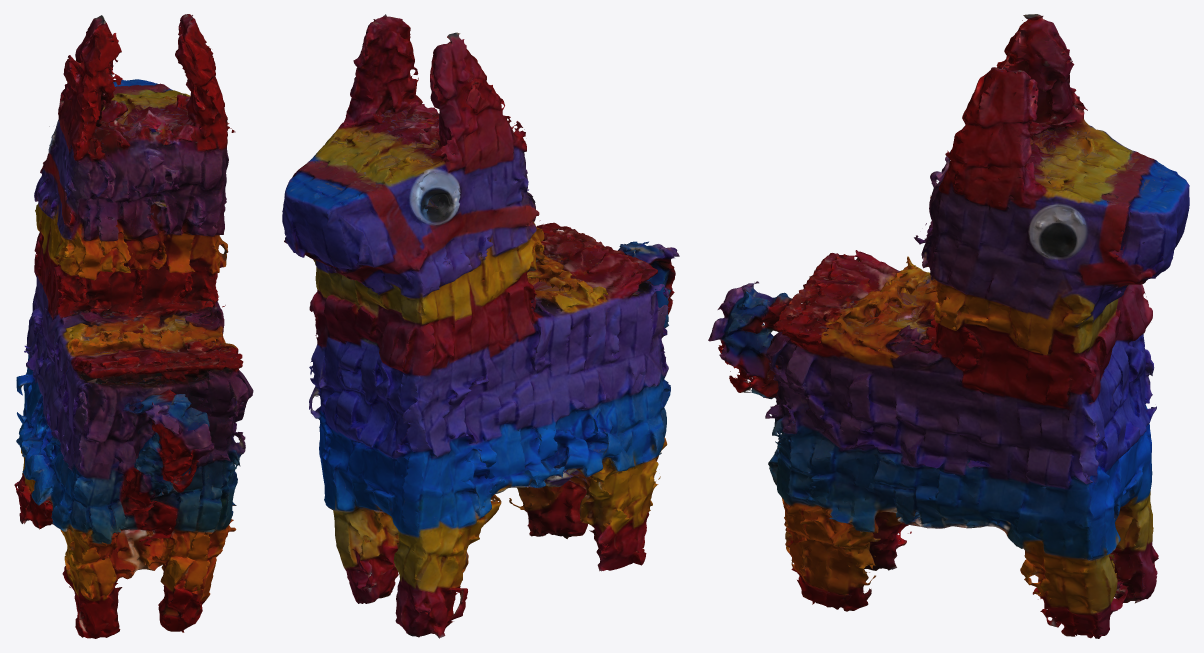
The model's file is small_pinata_noBase.fbx.
The picture shows the model from 3 angles, left to right: view 1: azimuth 30°, elevation 25°; view 2: azimuth 150°, elevation 25°; view 3: azimuth 270°, elevation 25°; orthographic projection. The views are drawn at different scales.
Visible parts, largest first — view 1: Object_0, Object_1, Object_2, Object_3; view 2: Object_0, Object_1, Object_2, Object_3; view 3: Object_0, Object_1, Object_2, Object_3.
Part boxes in pixels (left/top/right/bottom): Object_0: left=16, top=14, right=253, bottom=638; Object_1: left=15, top=15, right=253, bottom=638; Object_2: left=14, top=14, right=251, bottom=637; Object_3: left=15, top=14, right=250, bottom=637; Object_0: left=282, top=16, right=677, bottom=637; Object_1: left=284, top=17, right=679, bottom=638; Object_2: left=283, top=16, right=677, bottom=638; Object_3: left=289, top=14, right=679, bottom=637; Object_0: left=708, top=17, right=1189, bottom=638; Object_1: left=709, top=14, right=1181, bottom=635; Object_2: left=710, top=14, right=1183, bottom=637; Object_3: left=708, top=14, right=1176, bottom=638.
Bounding box in the file's own units: 455 × 984 × 714.
1 material, 1 textured.
